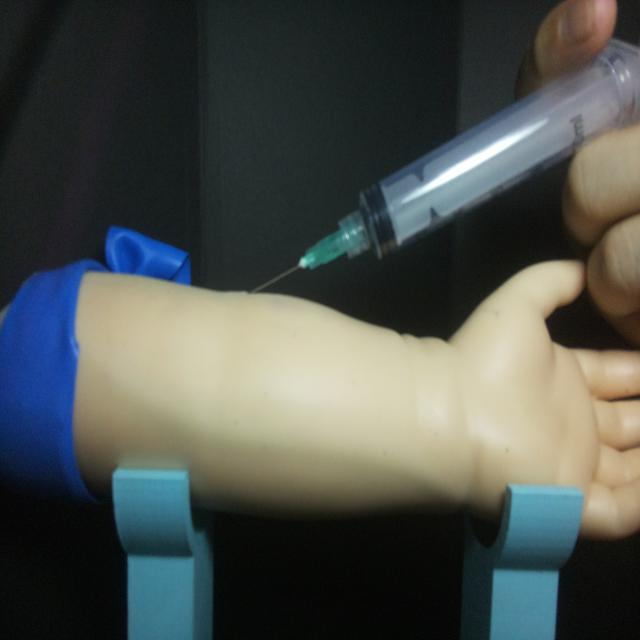17deg: (244, 34, 637, 296)
